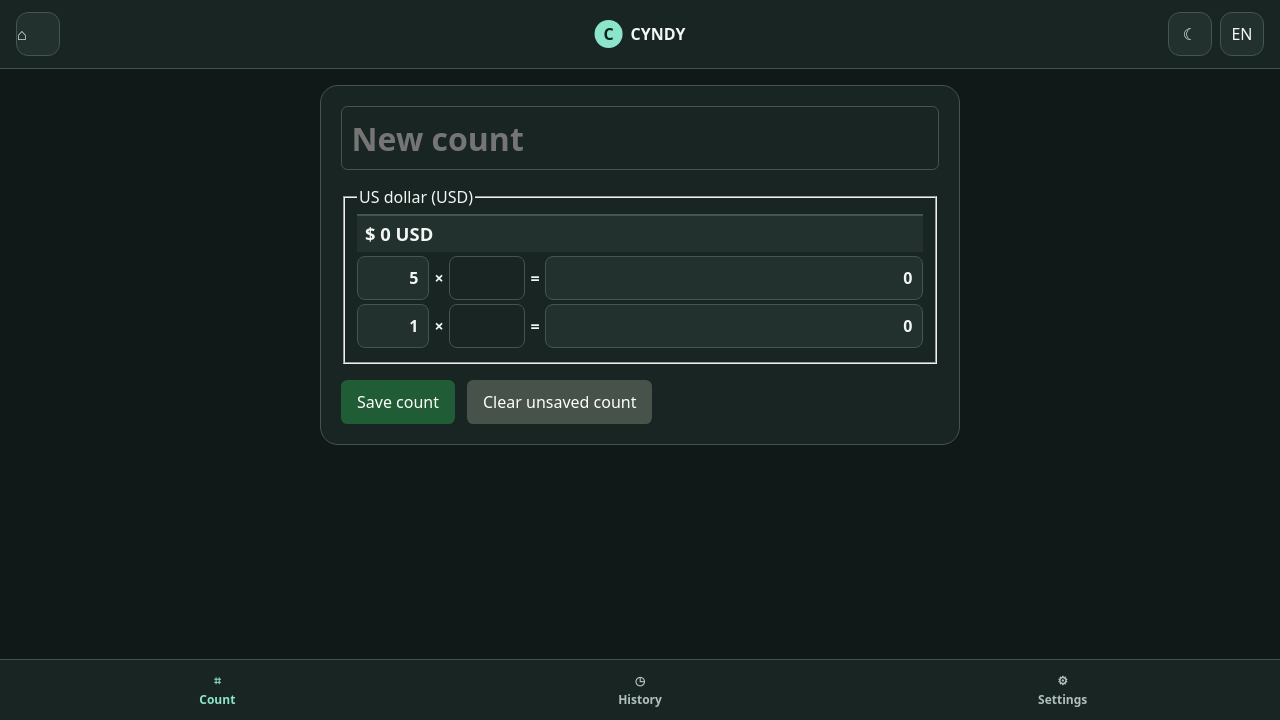
Test: configuration routes › preserves the unsaved count draft while settings are opened and saved
Step 1. Type "-1" into the number field named "$1 quantity" → [487, 326], box [449, 304, 525, 348]
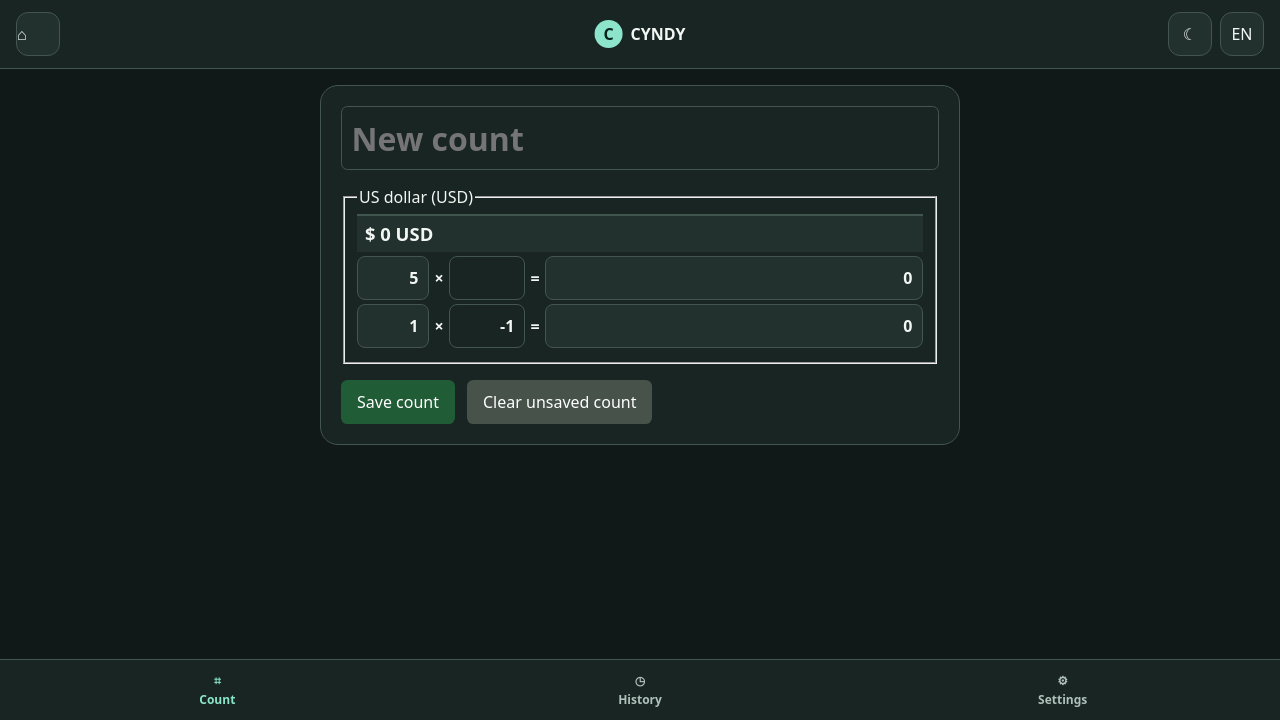
Step 2. Type "Unsaved note" into the field named "Count title" → [640, 138], box [341, 106, 939, 170]
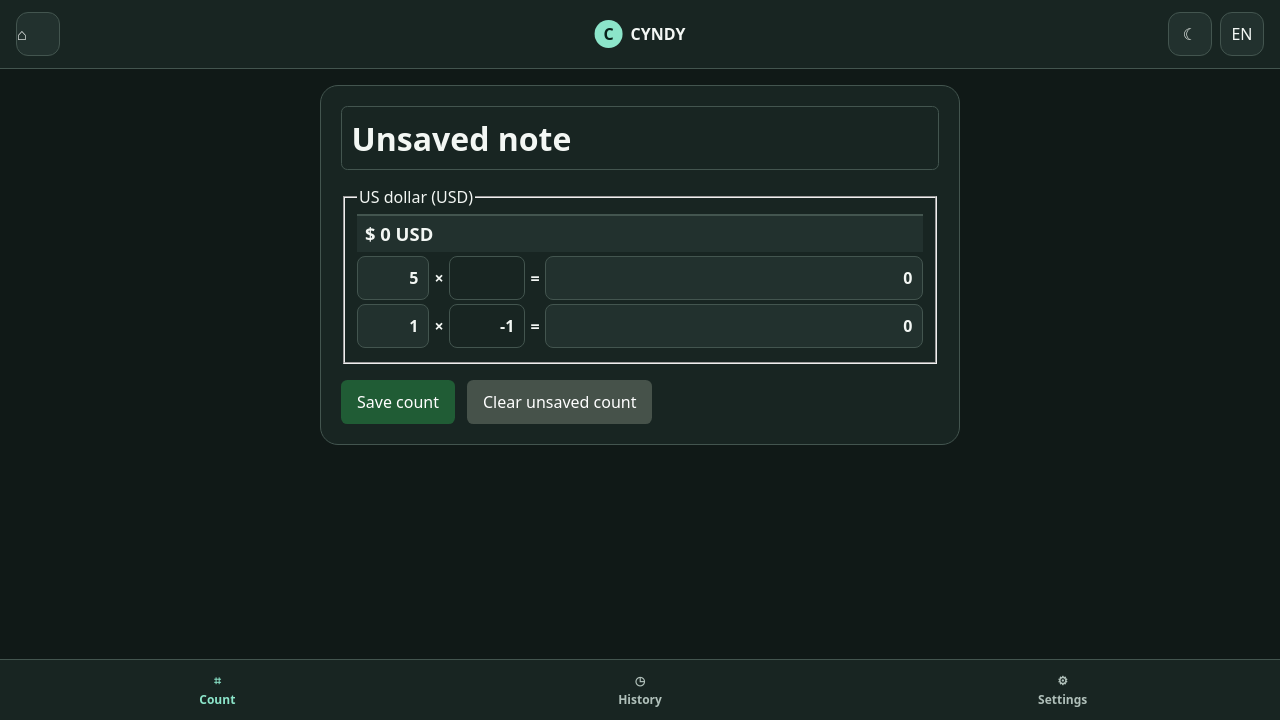
Step 3. Click the button "Save count" → [398, 402], box [341, 380, 455, 424]
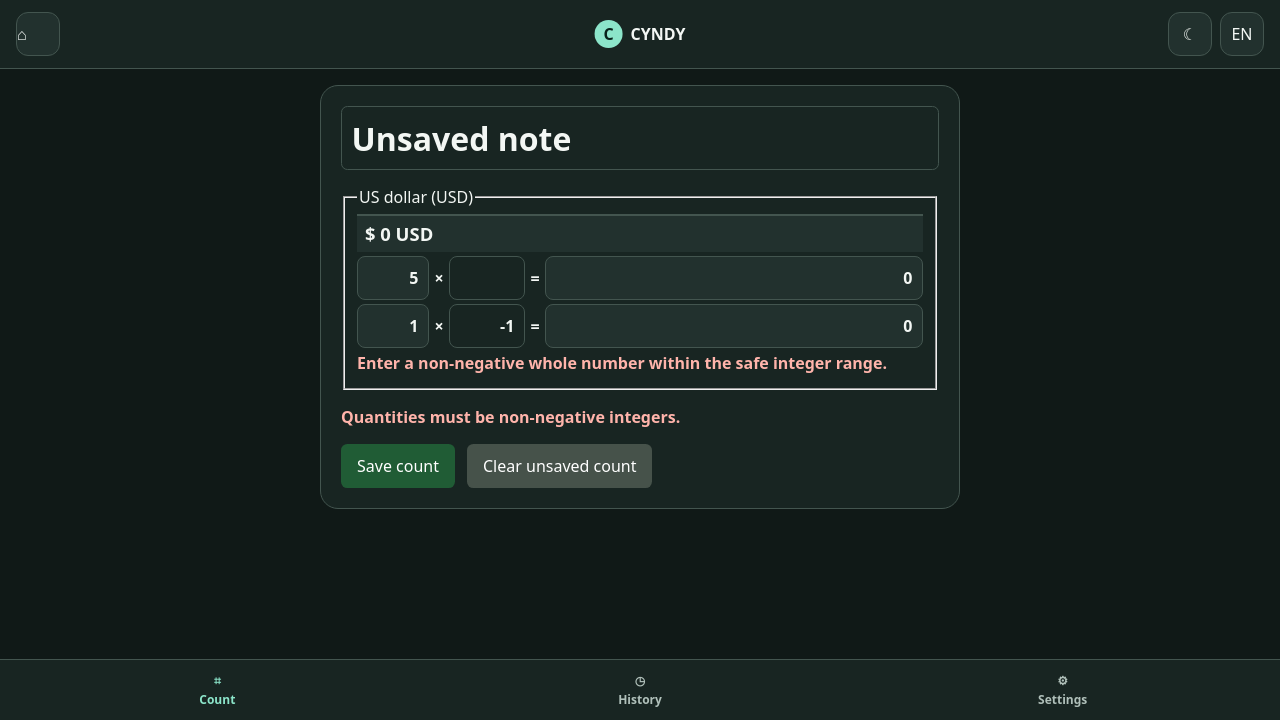
Expected: the message "Quantities must be non-negative integers." is shown, [341, 406, 680, 428]
Step 4. Click the link "⚙ Settings" → [1063, 690], box [1038, 672, 1087, 708]
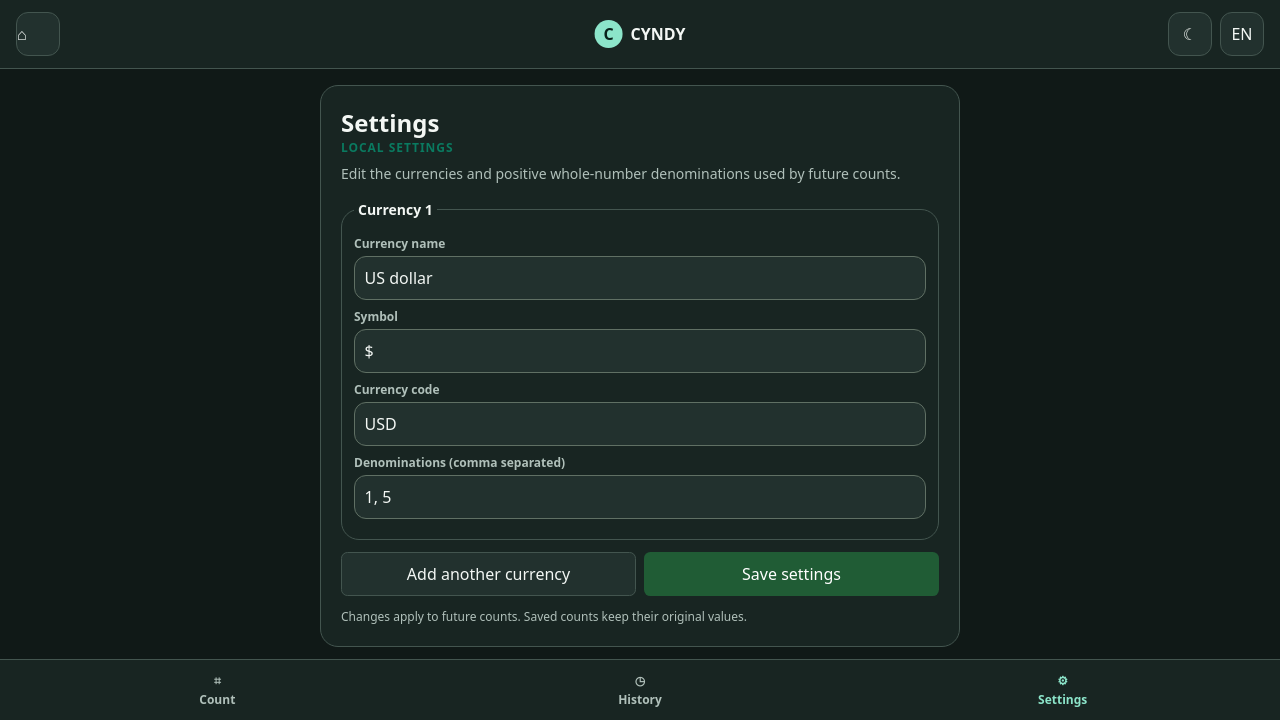
Expected: the heading "Settings" is shown, [341, 106, 440, 139]
Step 5. Click the button "Save settings" → [792, 574], box [644, 552, 939, 596]
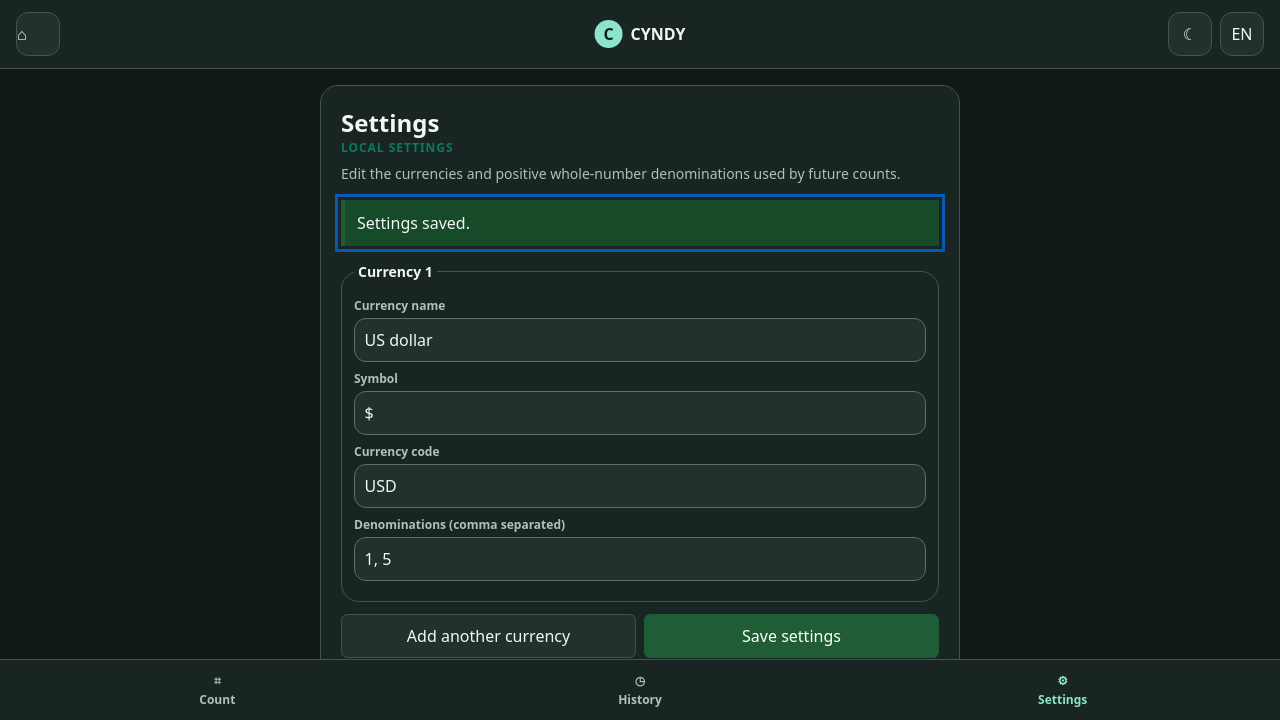
Expected: the message reads "Settings saved.", [357, 212, 470, 234]
Step 6. Click the link "⌗ Count" → [217, 690], box [199, 672, 235, 708]
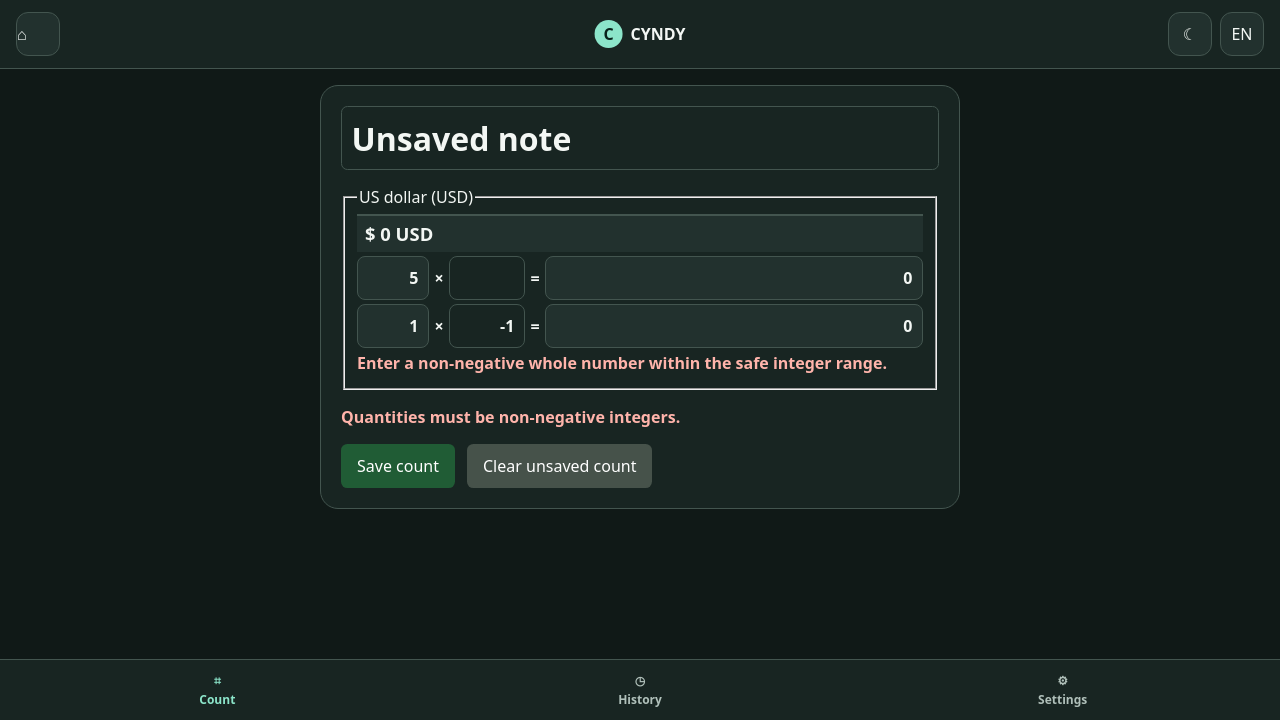
Expected: the number field named "$1 quantity" holds "-1", [449, 304, 525, 348]
Expected: the field named "Count title" holds "Unsaved note", [341, 106, 939, 170]
Expected: the message reads "Quantities must be non-negative integers.", [341, 406, 680, 428]
